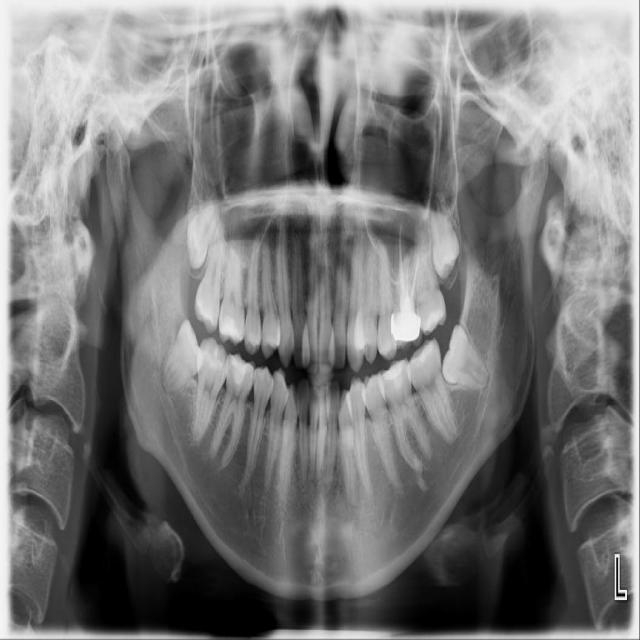Crown: (391, 306, 422, 350)
Filling: (418, 291, 446, 335), (382, 362, 409, 391), (413, 341, 437, 371), (219, 314, 246, 340), (204, 339, 224, 374), (229, 356, 252, 384)
Root Canal Treatment: (398, 222, 406, 300), (408, 247, 416, 294)
impacted tooth: (160, 321, 203, 396), (444, 324, 491, 391), (185, 192, 224, 269), (426, 197, 461, 279)
